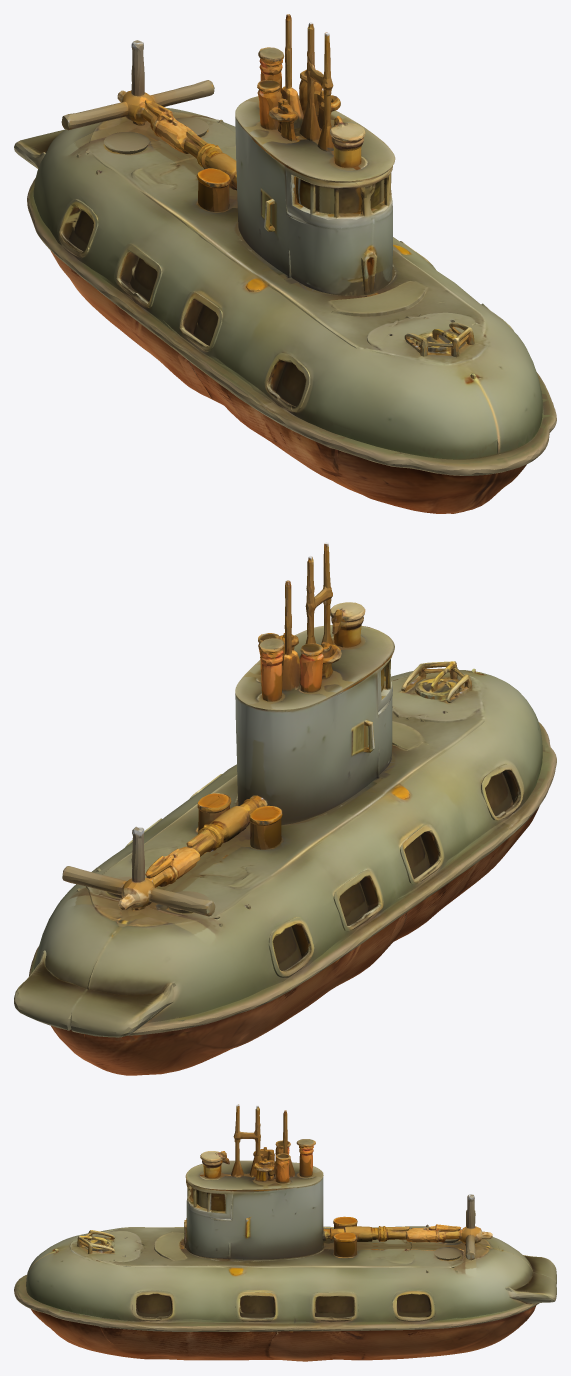
Rendered from submarine.glb.
3 views of the same model, one above another, from view 1: azimuth 30°, elevation 25°; view 2: azimuth 150°, elevation 25°; view 3: azimuth 270°, elevation 25° (orthographic). The views are drawn at different scales.
Parts seen in each view (by area): view 1: model; view 2: model; view 3: model.
Boxes of the visible parts, left/top/right/bottom form: model: left=14, top=14, right=556, bottom=513; model: left=14, top=542, right=556, bottom=1075; model: left=14, top=1104, right=556, bottom=1361.
Size of the model in its own units: 0.6176 by 0.8895 by 1.84.
1 material, 1 textured.
